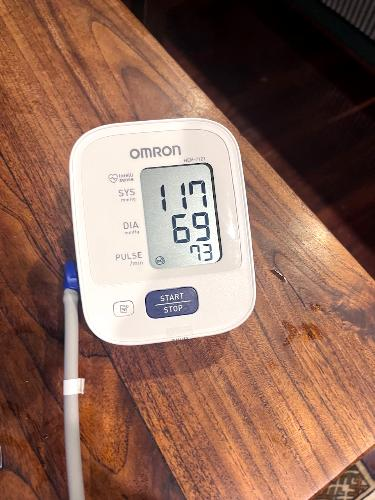bpm: (137, 161, 225, 271)
